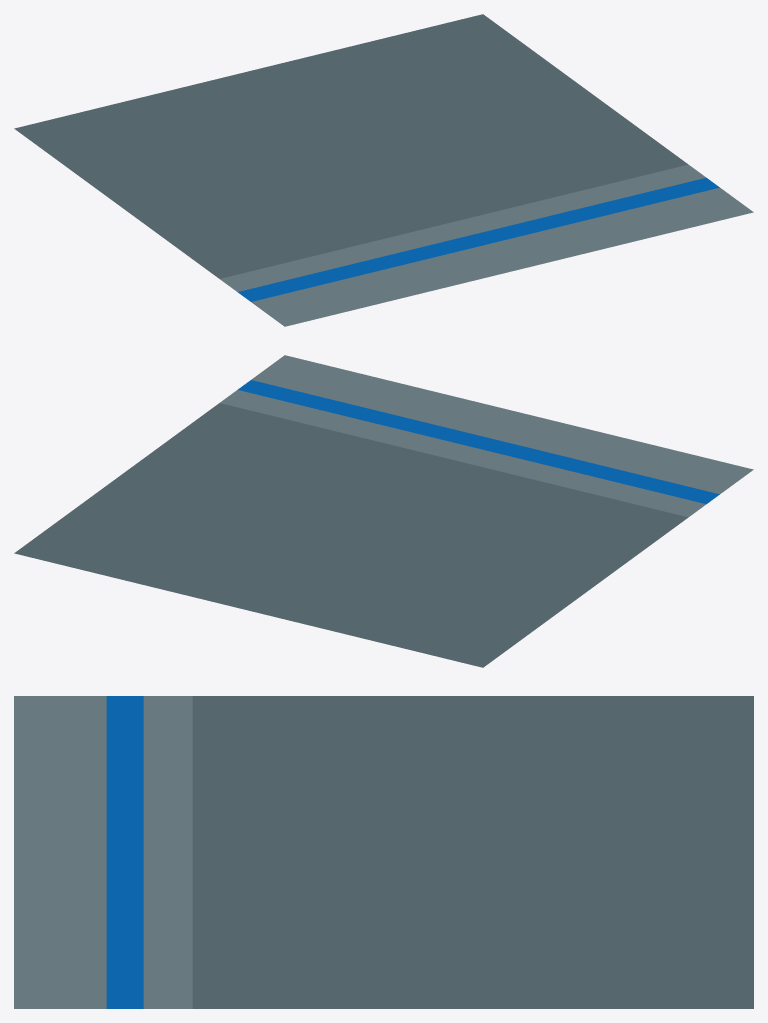
The model's file is Ceiling_type_C_024.fbx.
3 renders of one model, top to bottom at view 1: azimuth 30°, elevation 25°; view 2: azimuth 150°, elevation 25°; view 3: azimuth 270°, elevation 25°, orthographic. The views are drawn at different scales.
Visible parts, largest first — view 1: Ceiling_type_C_024; view 2: Ceiling_type_C_024; view 3: Ceiling_type_C_024.
Boxes of the visible parts, x1=… form: Ceiling_type_C_024: x1=14, y1=14, x2=753, y2=326; Ceiling_type_C_024: x1=14, y1=355, x2=753, y2=667; Ceiling_type_C_024: x1=14, y1=696, x2=753, y2=1008.
Bounding box in the file's own units: 400 × 400 × 6.18.
